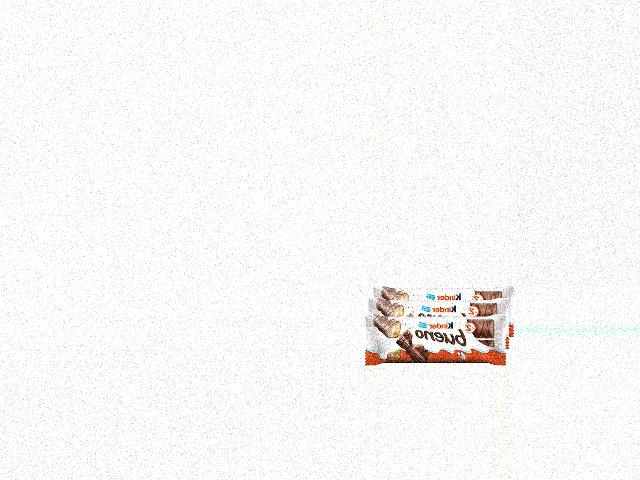chocolate: (368, 285, 513, 366)
